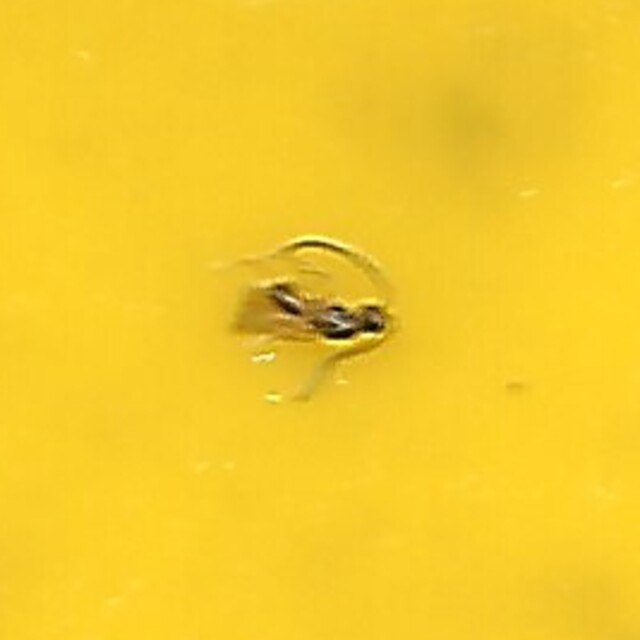Hymenoptera: (240, 238, 400, 402)
